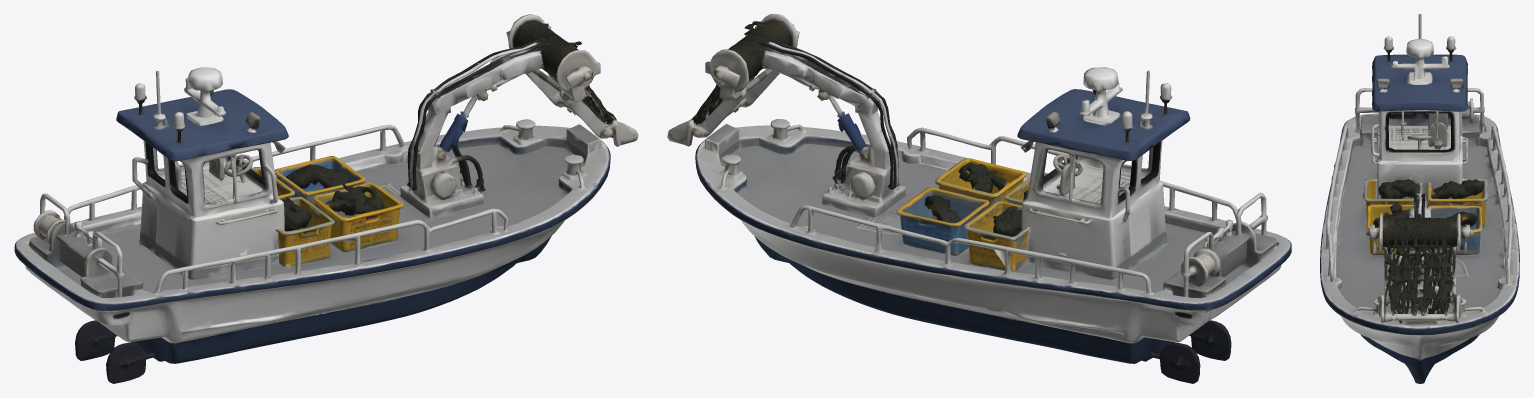
The model's file is farm-boat.glb.
3 views of the same model, side by side, from view 1: azimuth 30°, elevation 25°; view 2: azimuth 150°, elevation 25°; view 3: azimuth 270°, elevation 25° (orthographic). The views are drawn at different scales.
Parts seen in each view (by area): view 1: tripo_node_8c796372-e0d8-4666-93d6-ab5a12d43b91; view 2: tripo_node_8c796372-e0d8-4666-93d6-ab5a12d43b91; view 3: tripo_node_8c796372-e0d8-4666-93d6-ab5a12d43b91.
Part boxes in pixels (x1,y1,x2,y2): tripo_node_8c796372-e0d8-4666-93d6-ab5a12d43b91: (14, 14, 638, 383); tripo_node_8c796372-e0d8-4666-93d6-ab5a12d43b91: (667, 14, 1291, 383); tripo_node_8c796372-e0d8-4666-93d6-ab5a12d43b91: (1320, 14, 1519, 383).
Bounding box in the file's own units: 1 × 0.4812 × 0.3792.
Materials: 1 (1 with a texture image).
